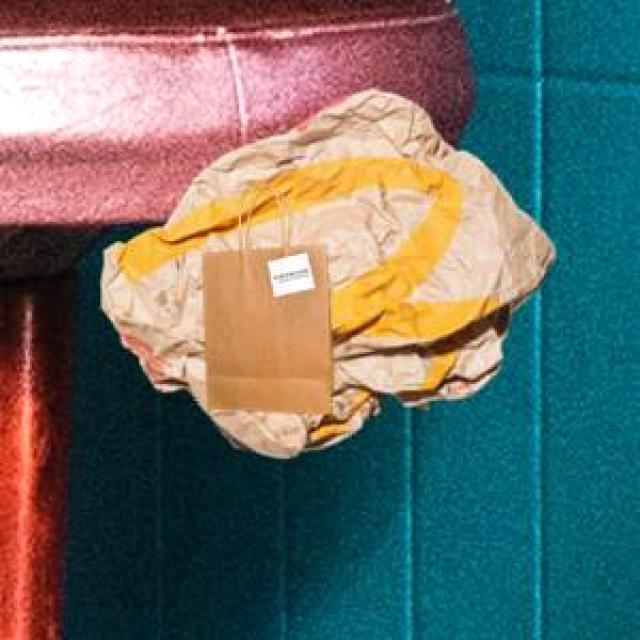Paper_Bag: (99, 87, 552, 456), (200, 229, 330, 411)
